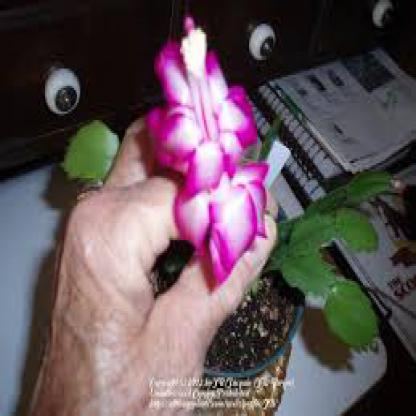Holiday Cactus: (136, 12, 304, 293)
